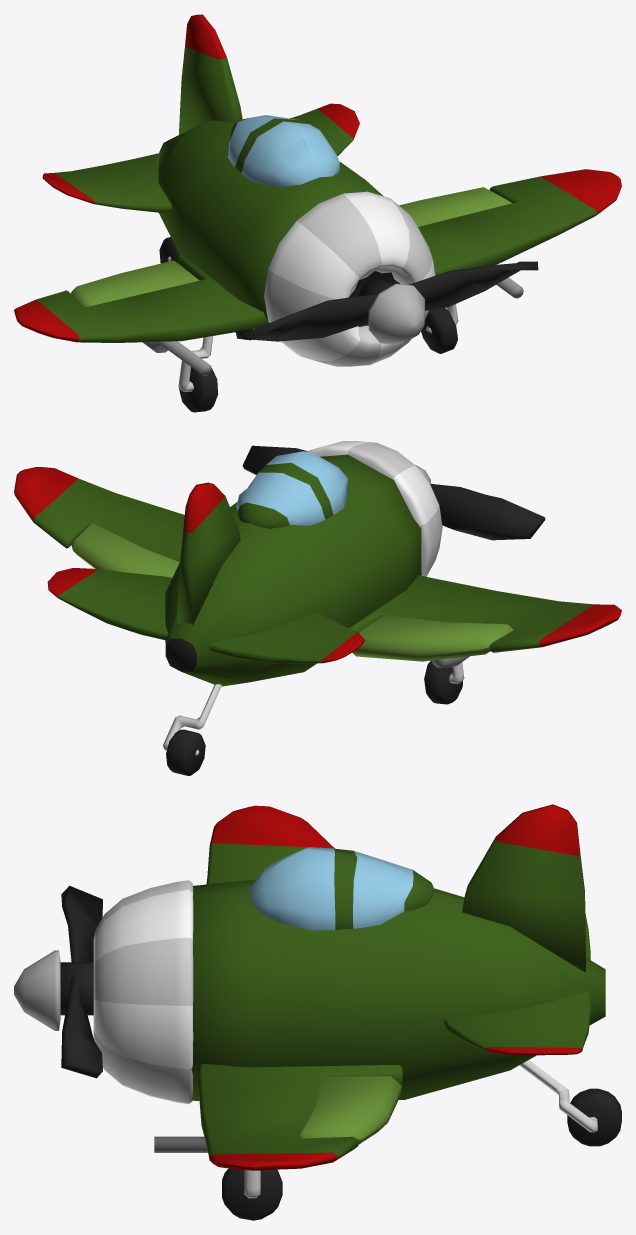
The picture shows the model from 3 angles, top to bottom: view 1: azimuth 30°, elevation 25°; view 2: azimuth 150°, elevation 25°; view 3: azimuth 270°, elevation 25°; orthographic projection. The views are drawn at different scales.
Parts seen in each view (by area): view 1: Wings, Fuselage, Propellor_Engine, RearRutter, Propellor, Plane_Canopy, TopAirFoil, RightRudder, Propeller_Cap, LeftRudder, Landing_Gear_Right, Landing_Gear_Left (+1 smaller); view 2: Fuselage, Wings, RearRutter, Plane_Canopy, TopAirFoil, RightRudder, Propellor, Propellor_Engine, LeftRudder, Landing_Gear_Back, Landing_Gear_Right; view 3: Fuselage, Wings, Propellor_Engine, TopAirFoil, Plane_Canopy, RearRutter, LeftRudder, Propellor, Landing_Gear_Back, Landing_Gear_Left, Propeller_Cap, Propellor_Shaft (+1 smaller).
Part boxes in pixels (x1,y1,x2,y2): Wings: (14,169,621,342); Fuselage: (158,120,382,321); Propellor_Engine: (264,191,435,366); RearRutter: (42,103,359,212); Propellor: (235,261,538,341); Plane_Canopy: (228,115,339,186); TopAirFoil: (179,14,242,134); RightRudder: (71,260,199,307); Propeller_Cap: (368,283,424,344); LeftRudder: (399,187,511,226); Landing_Gear_Right: (178,336,217,412); Landing_Gear_Left: (421,304,458,353); Fuselage: (165,454,421,686); Wings: (14,467,621,652); RearRutter: (47,568,364,663); Plane_Canopy: (236,451,347,528); TopAirFoil: (176,482,240,624); RightRudder: (352,615,513,661); Propellor: (242,445,545,540); Propellor_Engine: (306,441,442,576); LeftRudder: (70,523,179,577); Landing_Gear_Back: (162,684,221,775); Landing_Gear_Right: (424,660,464,704); Fuselage: (191,880,605,1100); Wings: (198,805,402,1170); Propellor_Engine: (93,880,193,1104); TopAirFoil: (462,804,585,972); Plane_Canopy: (248,847,433,930); RearRutter: (444,913,590,1055); LeftRudder: (300,1076,401,1144); Propellor: (61,885,102,1078); Landing_Gear_Back: (519,1060,621,1146); Landing_Gear_Left: (222,1168,282,1220); Propeller_Cap: (14,950,60,1030); Propellor_Shaft: (60,962,93,1015).
Bounding box in the file's own units: 1.39 × 0.6124 × 0.9886.
1 material, 1 textured.
